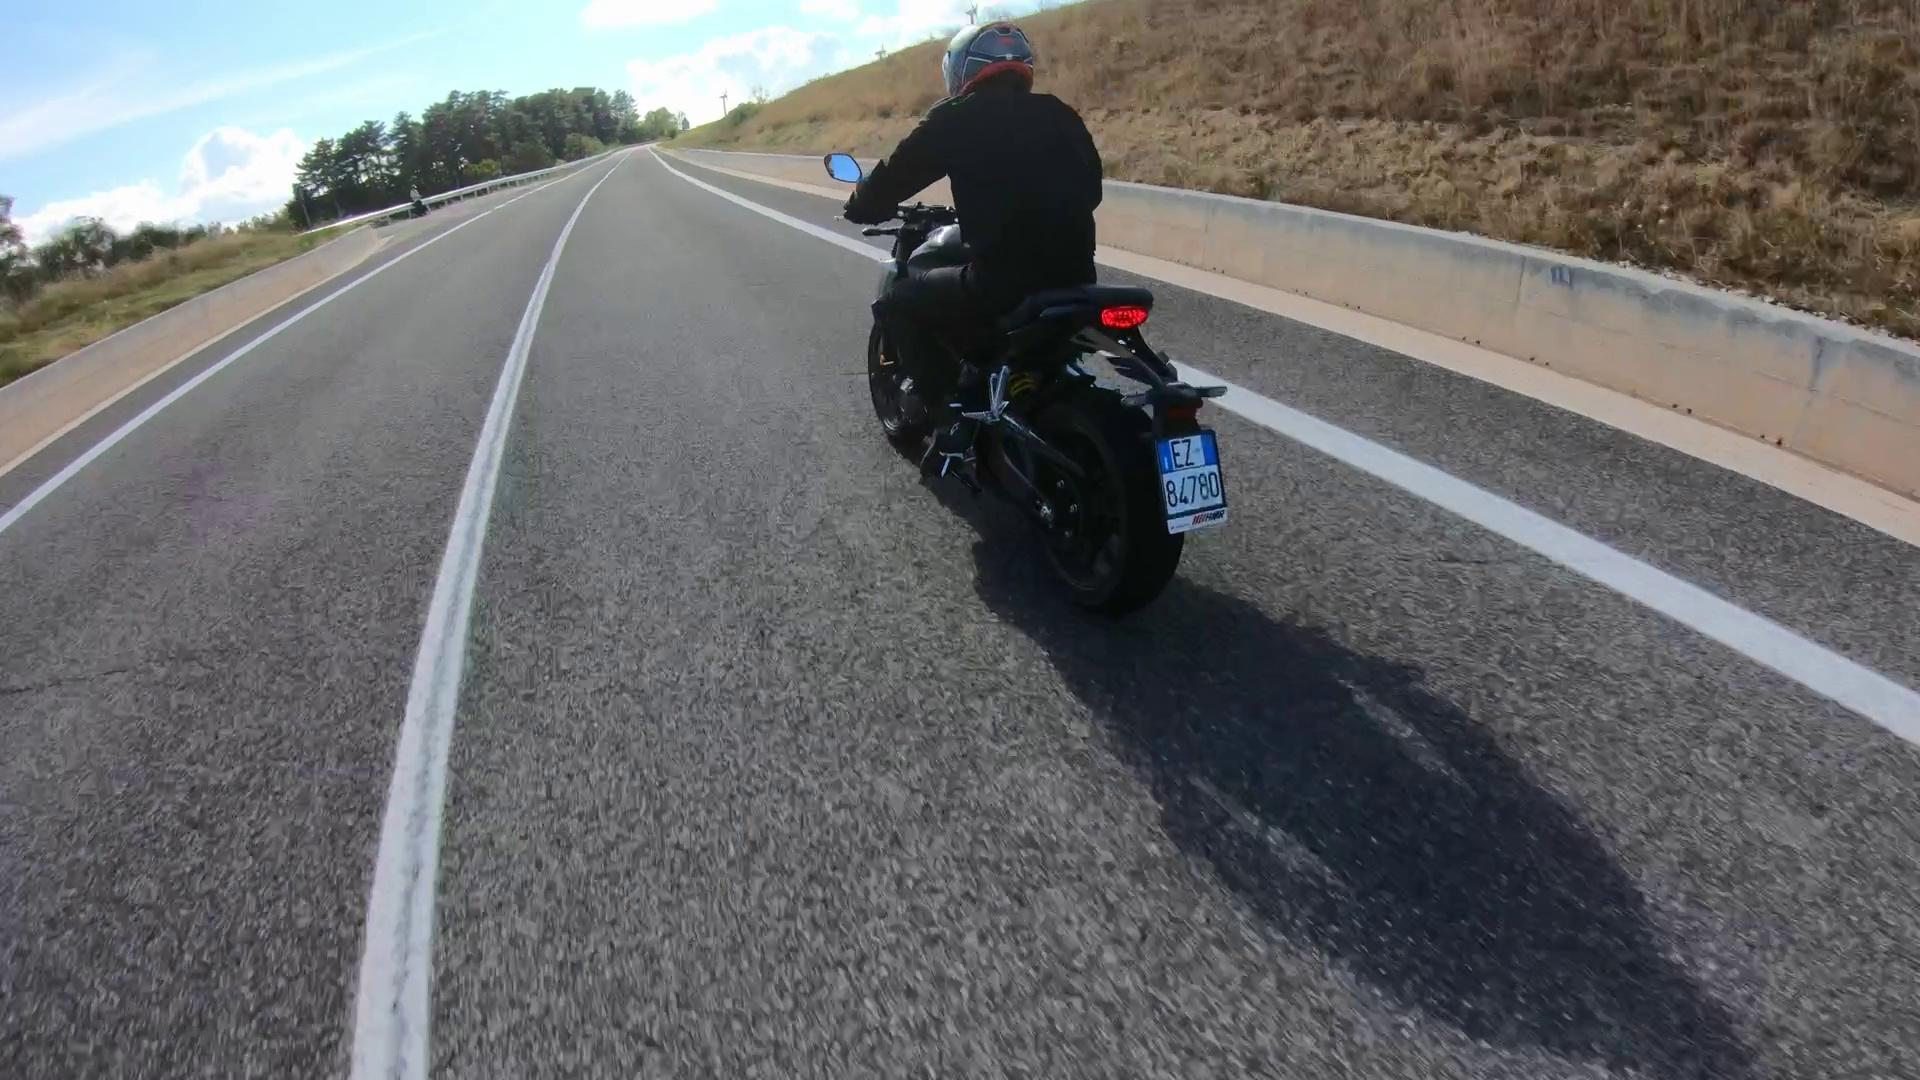cow: (820, 150, 1228, 628)
horse: (845, 17, 1100, 443)
